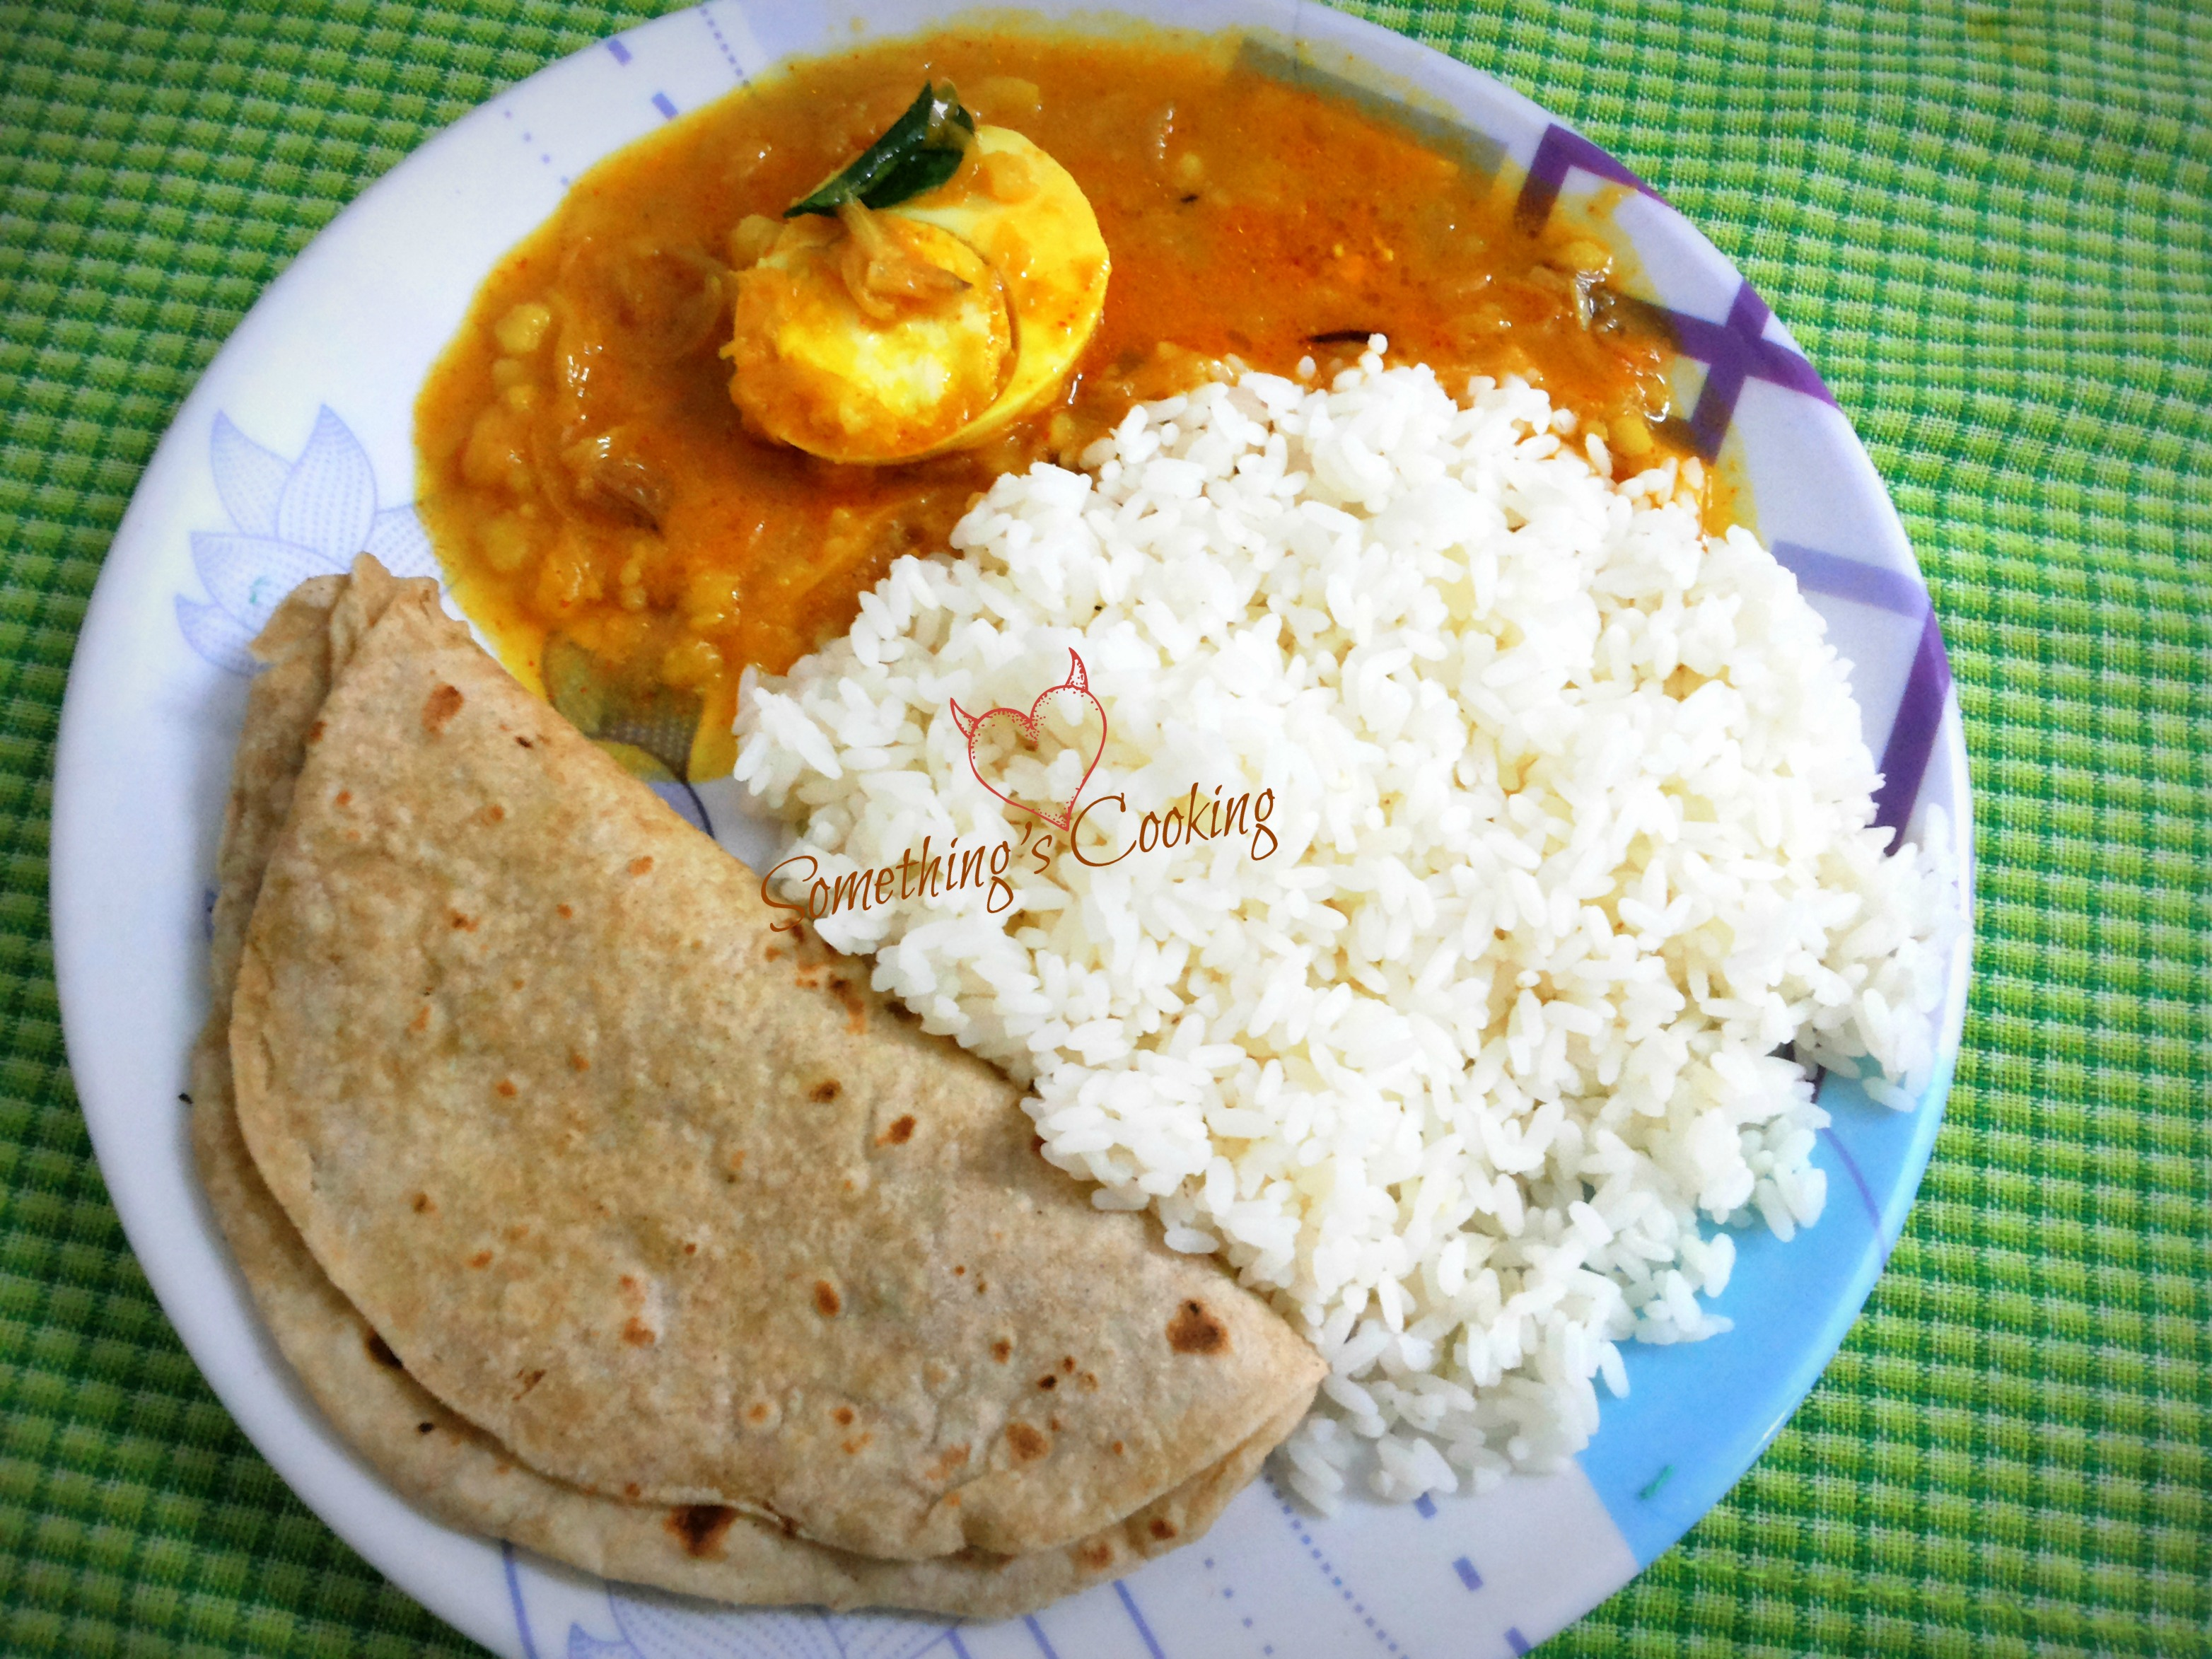curry: (402, 63, 1789, 633)
egg: (707, 127, 1150, 471)
rice: (941, 533, 1853, 1197)
roti: (158, 927, 1042, 1528)
